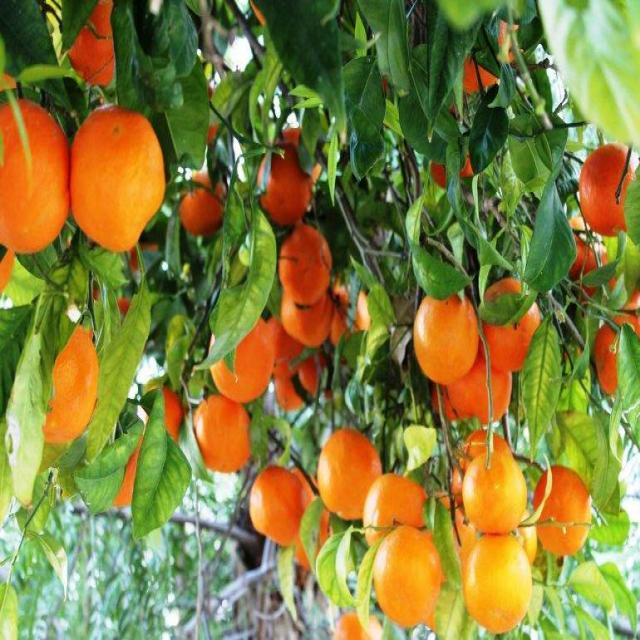Jeruk Sudah Matang: (64, 91, 175, 269), (0, 85, 73, 271), (358, 502, 458, 635), (25, 310, 105, 466), (313, 412, 396, 534), (456, 527, 540, 640), (406, 278, 486, 395), (528, 445, 600, 566), (358, 450, 432, 564), (474, 264, 544, 382), (204, 300, 279, 409), (241, 454, 317, 556), (458, 442, 534, 544), (573, 137, 640, 241), (60, 0, 137, 88), (254, 139, 320, 232), (191, 386, 255, 480), (276, 226, 336, 311), (174, 164, 232, 238)
